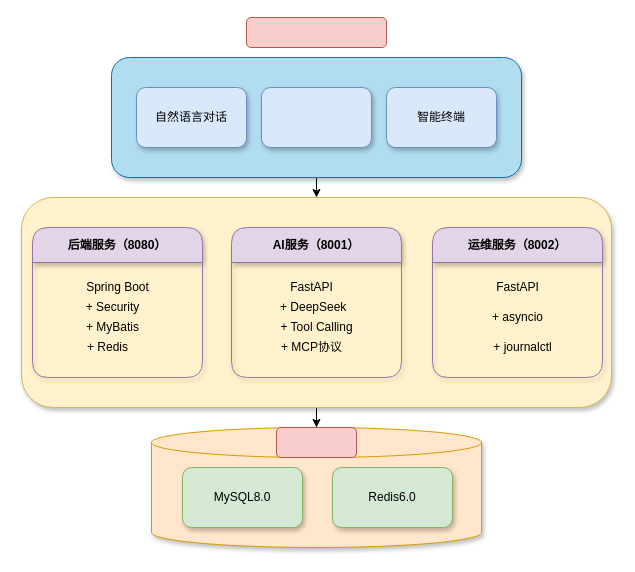
Image size: 635x572. Some labels were removed from this diagram. Each missing label, with the centre of its shape:
可视化监控: (317,118)
数据持久层: (316,442)
用户交互层（Vue.js）: (316,32)
